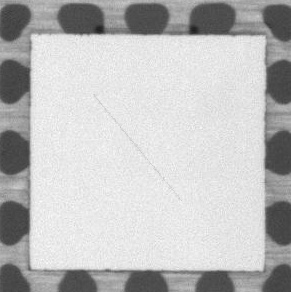DIE_CRACK: (93, 94, 180, 201)
